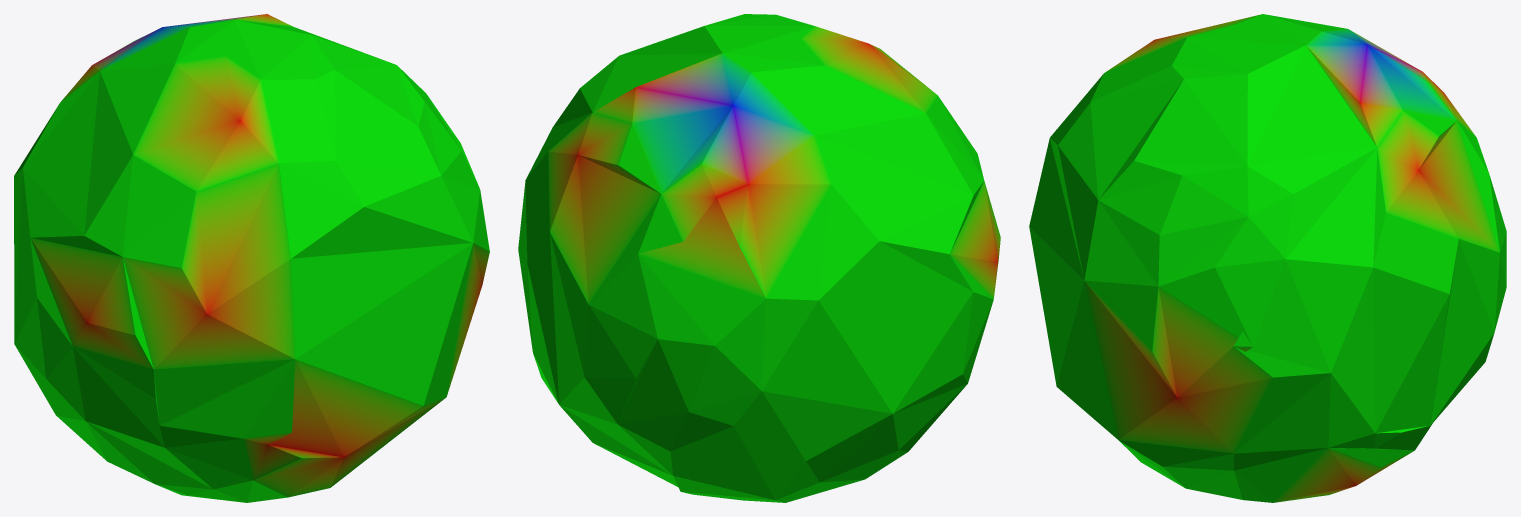
File: after_cleaning_reconquest_4.obj
The picture shows the model from 3 angles, left to right: view 1: azimuth 30°, elevation 25°; view 2: azimuth 150°, elevation 25°; view 3: azimuth 270°, elevation 25°; orthographic projection.
Size of the model in its own units: 1.99 by 1.98 by 1.94.
